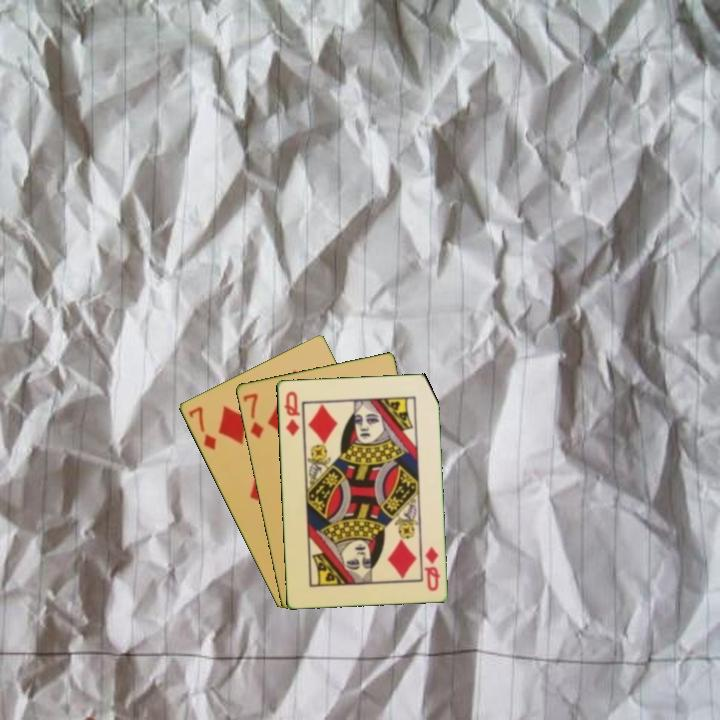7d: (184, 403, 219, 453), (239, 389, 266, 441)
Qd: (420, 543, 443, 594), (281, 387, 302, 439)
